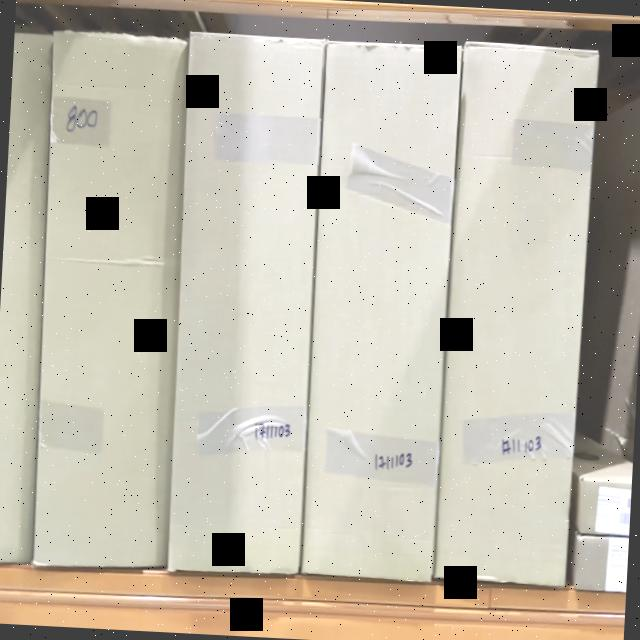box: (302, 42, 459, 576), (436, 46, 592, 582), (169, 37, 325, 573), (34, 34, 190, 564)
